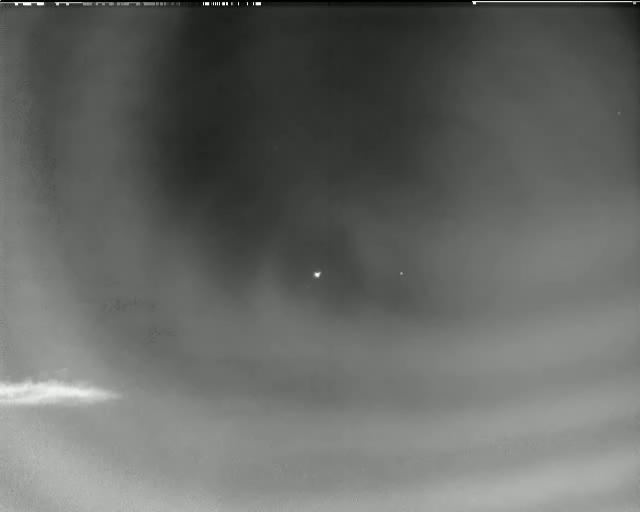uav: (313, 271, 322, 279)
